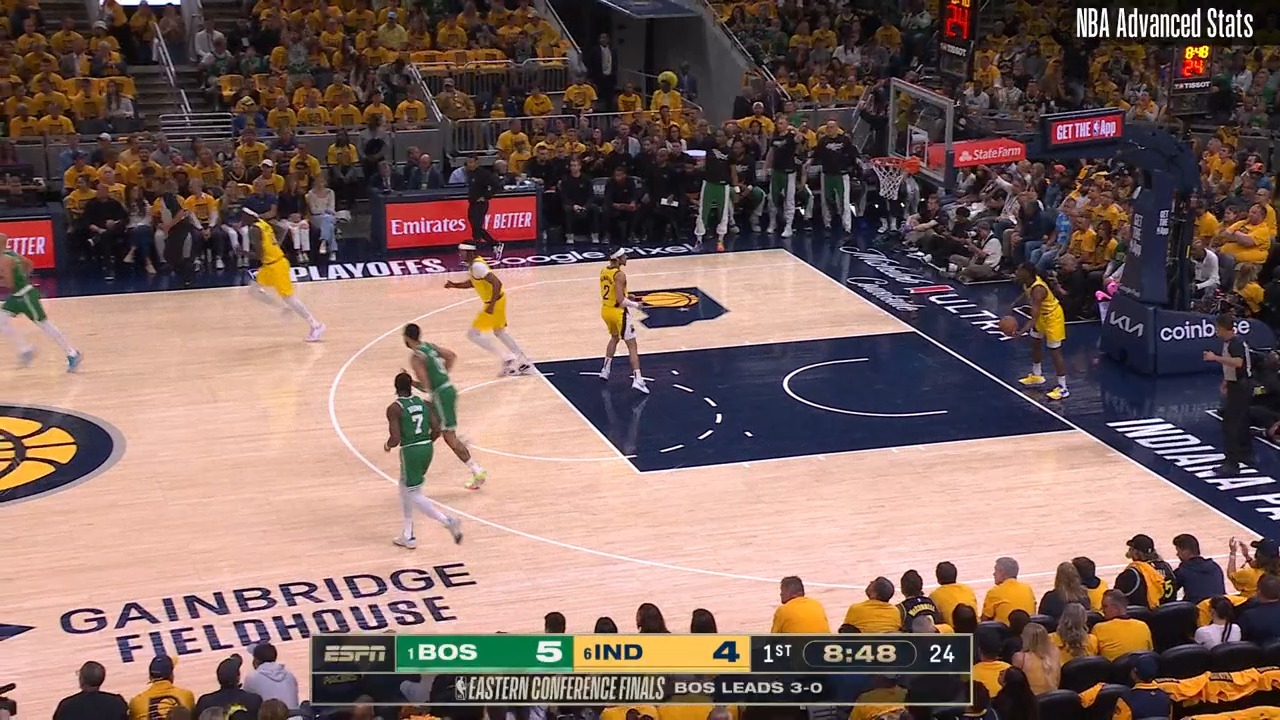basketball: (999, 314, 1021, 335)
